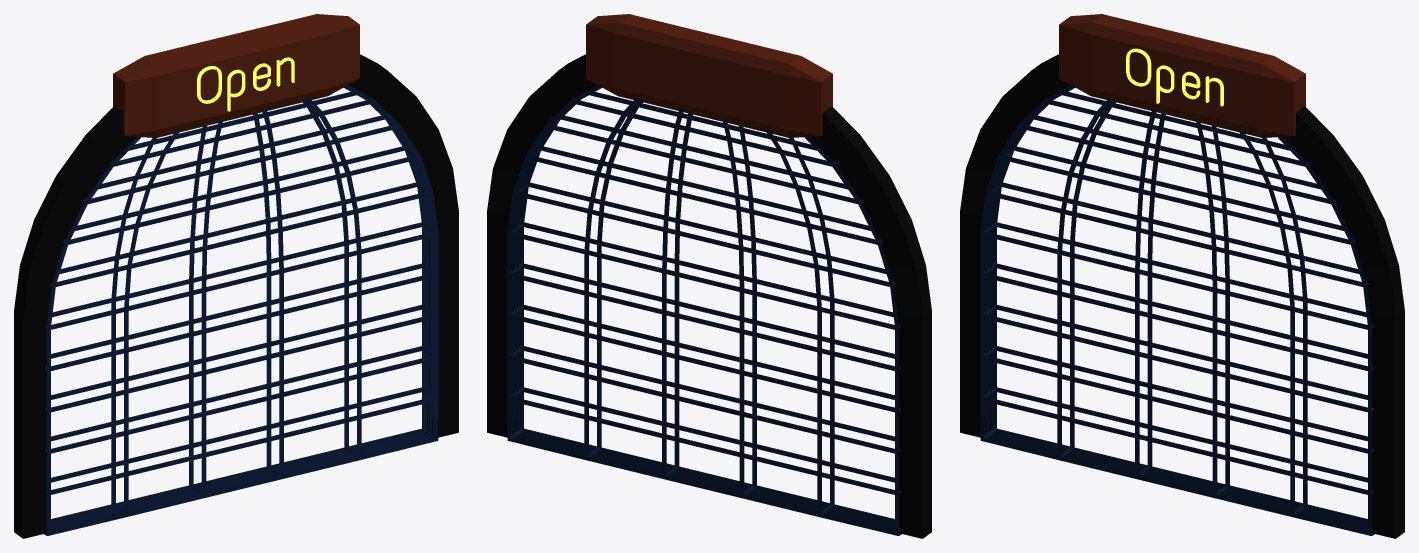
The model's file is GateDoor_V2.fbx.
The picture shows the model from 3 angles, left to right: view 1: azimuth 30°, elevation 25°; view 2: azimuth 150°, elevation 25°; view 3: azimuth 330°, elevation 25°; orthographic projection.
Parts seen in each view (by area): view 1: Gate, Barrier, Open; view 2: Gate, Barrier; view 3: Gate, Barrier, Open.
Boxes of the visible parts, box(x1,y1,x2,y2) form: Gate: box(44, 84, 438, 535); Barrier: box(14, 14, 458, 538); Open: box(197, 57, 294, 111); Gate: box(507, 84, 901, 535); Barrier: box(487, 14, 931, 538); Gate: box(980, 84, 1374, 535); Barrier: box(960, 14, 1404, 538); Open: box(1126, 48, 1223, 106).
Bounding box in the file's own units: 224 × 219 × 15.08.
